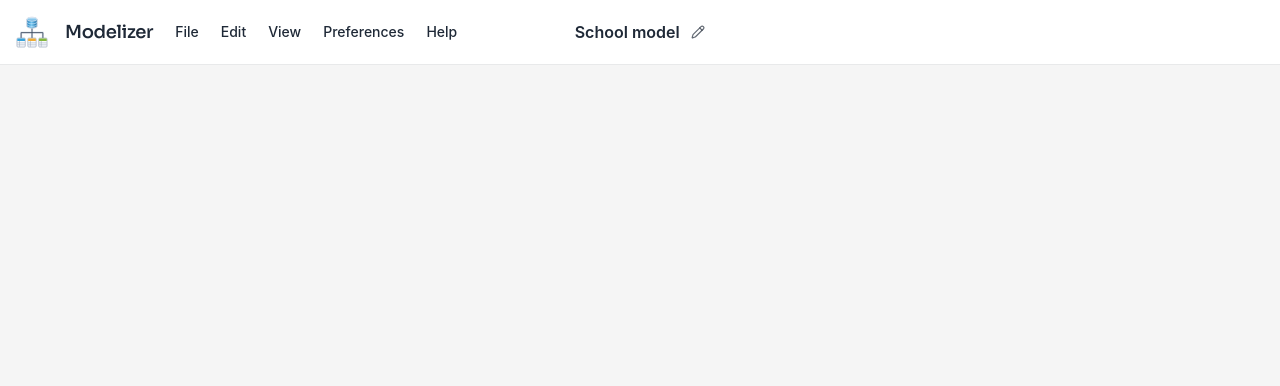
Test: switches from View to Help and back on hover
Step 1. Hover over the menu item "Help" → (442, 32), box [416,14,467,50]
Step 2. Click the menu item "View" → (285, 32), box [258,14,311,50]
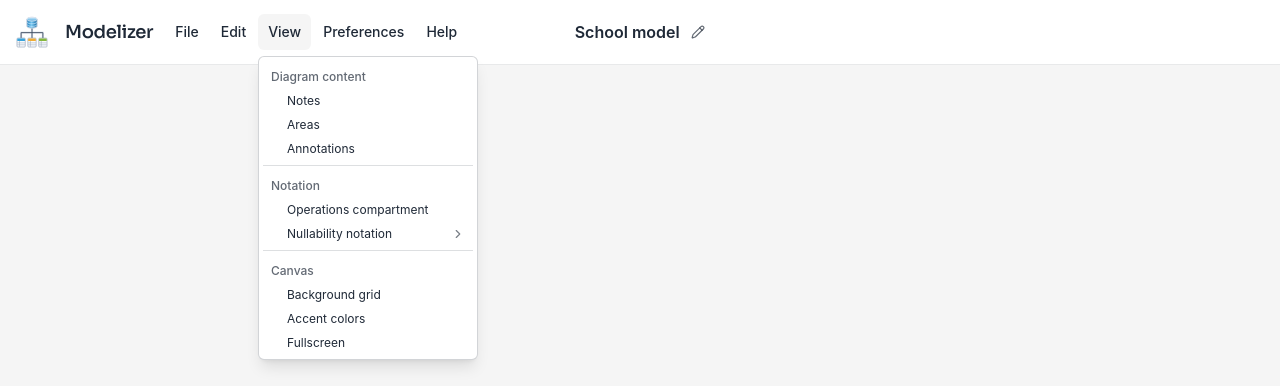
Step 3. Hover over the menu item "Help" → (442, 32), box [416,14,467,50]
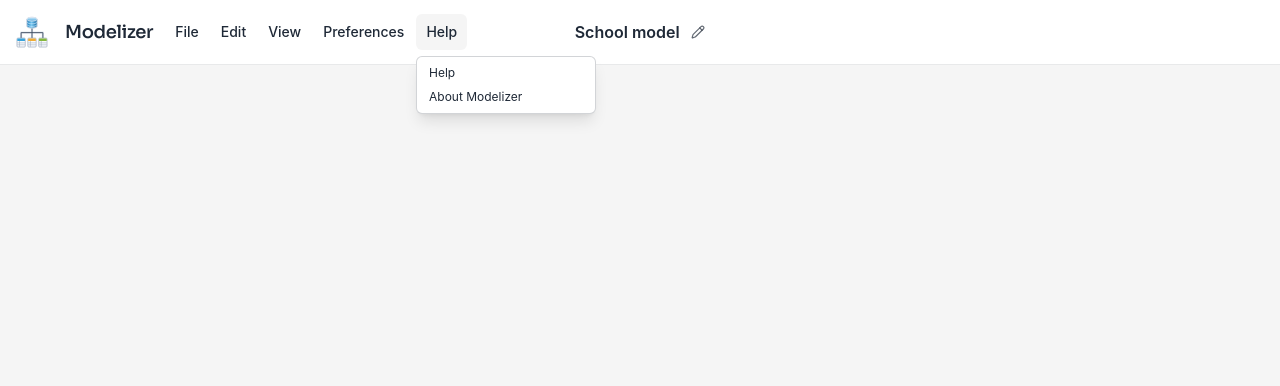
Expected: the menu "Help" is shown, [416,56,596,114]
Step 4. Hover over the menu item "View" → (285, 32), box [258,14,311,50]
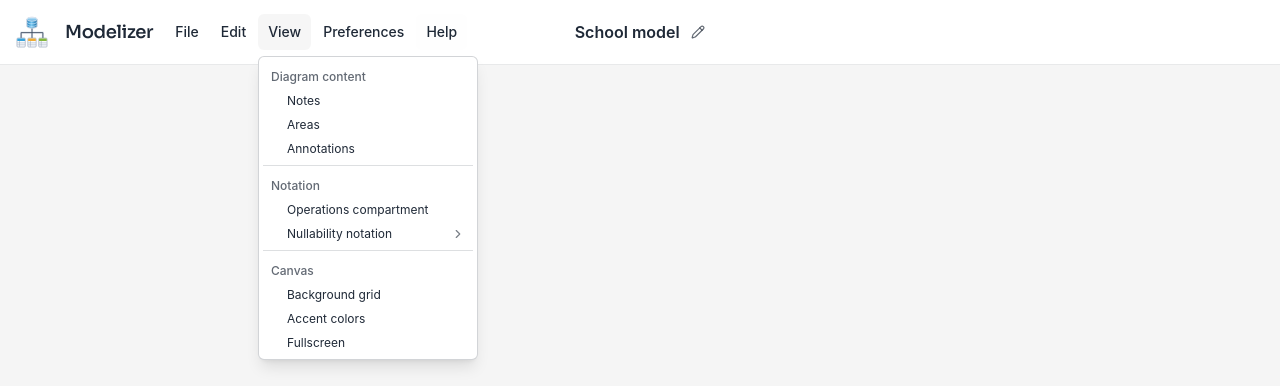
Expected: the menu named "View" is shown, [258,56,478,360]
Step 5. Press Escape
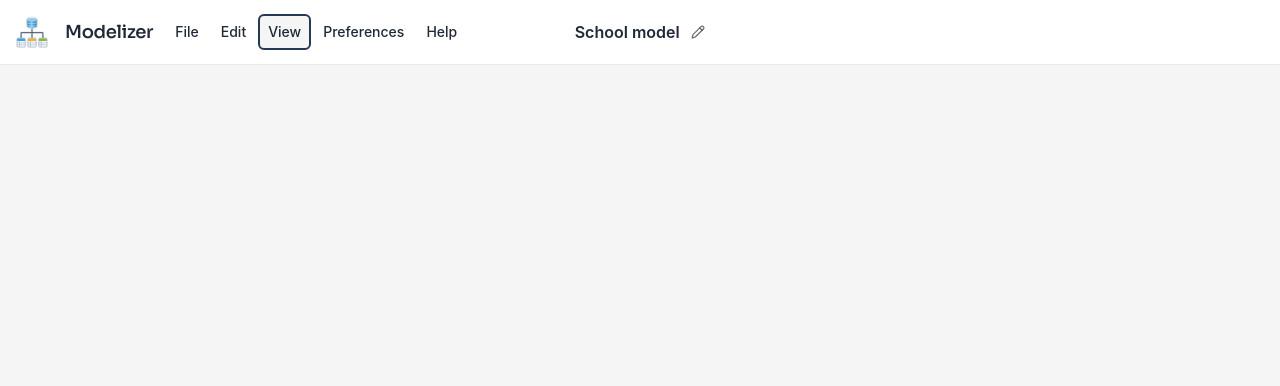
Expected: the menu is gone
